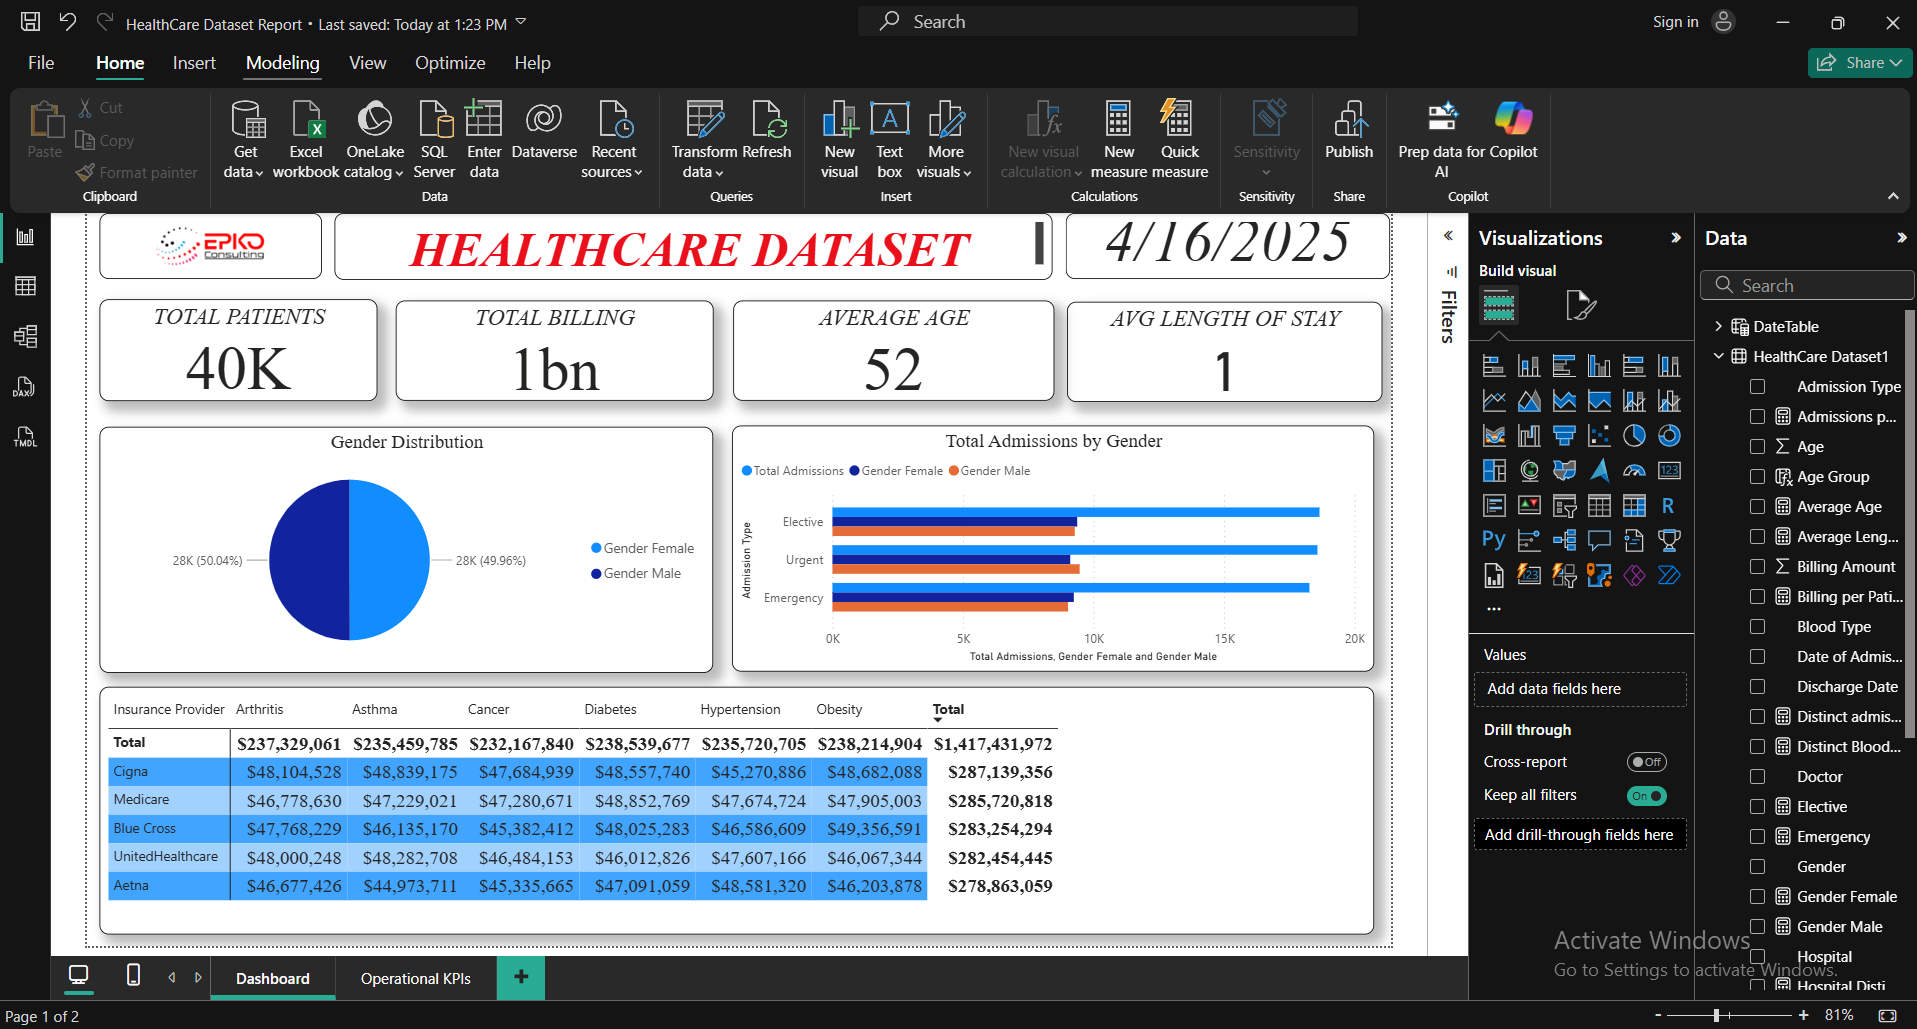

The dashboard page shown, as its layout file describes it:
{"tool":"powerbi","page":{"name":"Dashboard","canvas":[1280,720],"ordinal":0},"visuals":[{"type":"image","box":[12.3,0,218.3,65.1],"z":0},{"type":"textbox","box":[243.5,0,705.1,65.7],"z":1000},{"type":"card","fields":{"Values":["Max(HealthCare Dataset1.Load_Date)"]},"box":[961.3,0,318.7,65.1],"z":2000},{"type":"card","title":"TOTAL PATIENTS","fields":{"Values":["HealthCare Dataset1.Total Patients"]},"box":[12.3,84.5,272.9,100.4],"z":3000},{"type":"card","title":"AVG LENGTH OF STAY","fields":{"Values":["HealthCare Dataset1.Average Length of Stay"]},"box":[962,86.6,309.2,98.6],"z":4000},{"type":"card","title":"TOTAL BILLING","fields":{"Values":["HealthCare Dataset1.Total Billing"]},"box":[302.8,86.3,311.6,98.6],"z":5000},{"type":"card","title":"AVERAGE AGE","fields":{"Values":["HealthCare Dataset1.Average Age"]},"box":[633.8,86.3,315.2,98.6],"z":6000},{"type":"pieChart","title":"Gender Distribution","fields":{"Y":["HealthCare Dataset1.Gender Female","HealthCare Dataset1.Gender Male"]},"box":[12.3,209.5,602.1,241.2],"z":7000},{"type":"clusteredBarChart","title":"Total Admissions by Gender","fields":{"Y":["HealthCare Dataset1.Total Admissions","HealthCare Dataset1.Gender Female","HealthCare Dataset1.Gender Male"],"Category":["HealthCare Dataset1.Admission Type"]},"box":[633.4,209.1,630.4,242],"z":8000},{"type":"pivotTable","fields":{"Rows":["HealthCare Dataset1.Insurance Provider"],"Values":["Sum(HealthCare Dataset1.Billing Amount)"],"Columns":["HealthCare Dataset1.Medical Condition"]},"box":[121,479.5,999.3,215.1],"z":9000}]}

Visuals, with their boxes on the page's 1280x720 design canvas (x1, y1, x2, y2). These are canvas units, not pixel positions in the 1917x1029 screenshot, which may show the page scaled, cropped or inside an application window:
image: box=[12, 0, 231, 65]
textbox: box=[244, 0, 949, 66]
card - Max(HealthCare Dataset1.Load_Date): box=[961, 0, 1280, 65]
"TOTAL PATIENTS" card: box=[12, 84, 285, 185]
"AVG LENGTH OF STAY" card: box=[962, 87, 1271, 185]
"TOTAL BILLING" card: box=[303, 86, 614, 185]
"AVERAGE AGE" card: box=[634, 86, 949, 185]
"Gender Distribution" pieChart: box=[12, 210, 614, 451]
"Total Admissions by Gender" clusteredBarChart: box=[633, 209, 1264, 451]
pivotTable - HealthCare Dataset1.Insurance Provider x Sum(HealthCare Dataset1.Billing Amount): box=[121, 480, 1120, 695]
